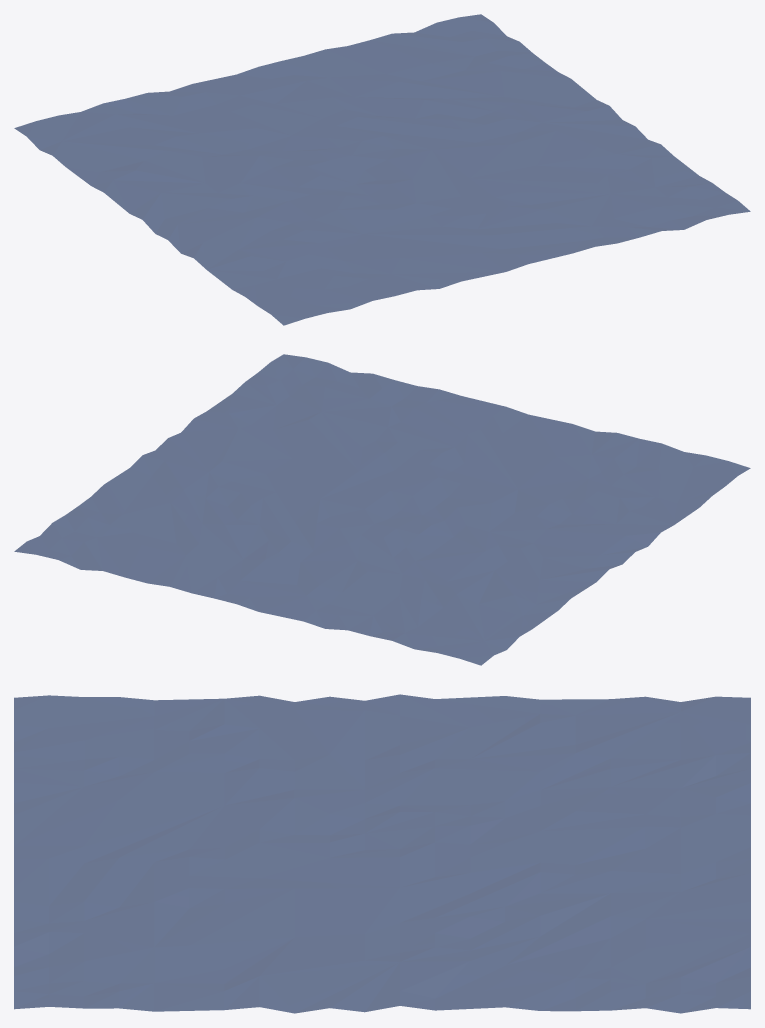
File: water.FBX
3 views of the same model, one above another, from view 1: azimuth 30°, elevation 25°; view 2: azimuth 150°, elevation 25°; view 3: azimuth 270°, elevation 25° (orthographic). The views are drawn at different scales.
Parts seen in each view (by area): view 1: water; view 2: water; view 3: water.
Part boxes in pixels (left/top/right/bottom): water: left=14, top=14, right=750, bottom=325; water: left=14, top=354, right=750, bottom=665; water: left=14, top=694, right=750, bottom=1013.
Bounding box in the file's own units: 3556 × 52.53 × 3556.
